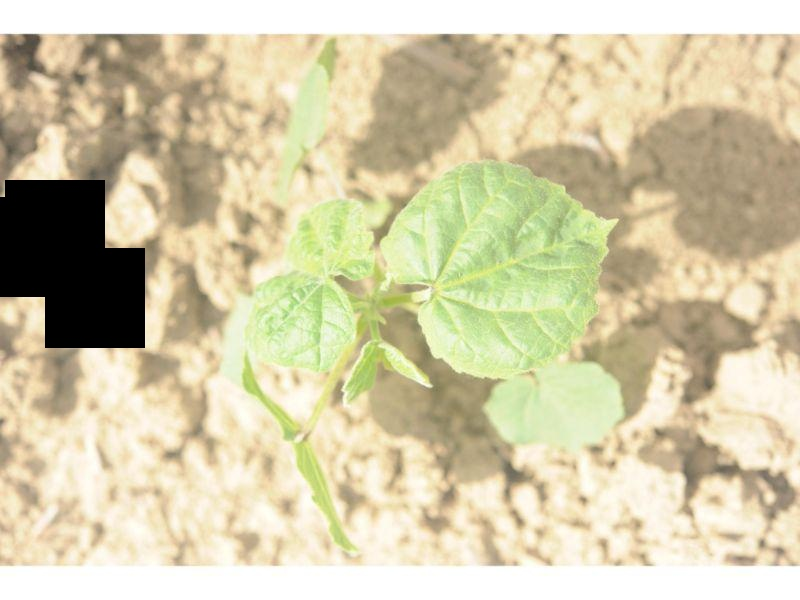velvet: (226, 35, 624, 549)
